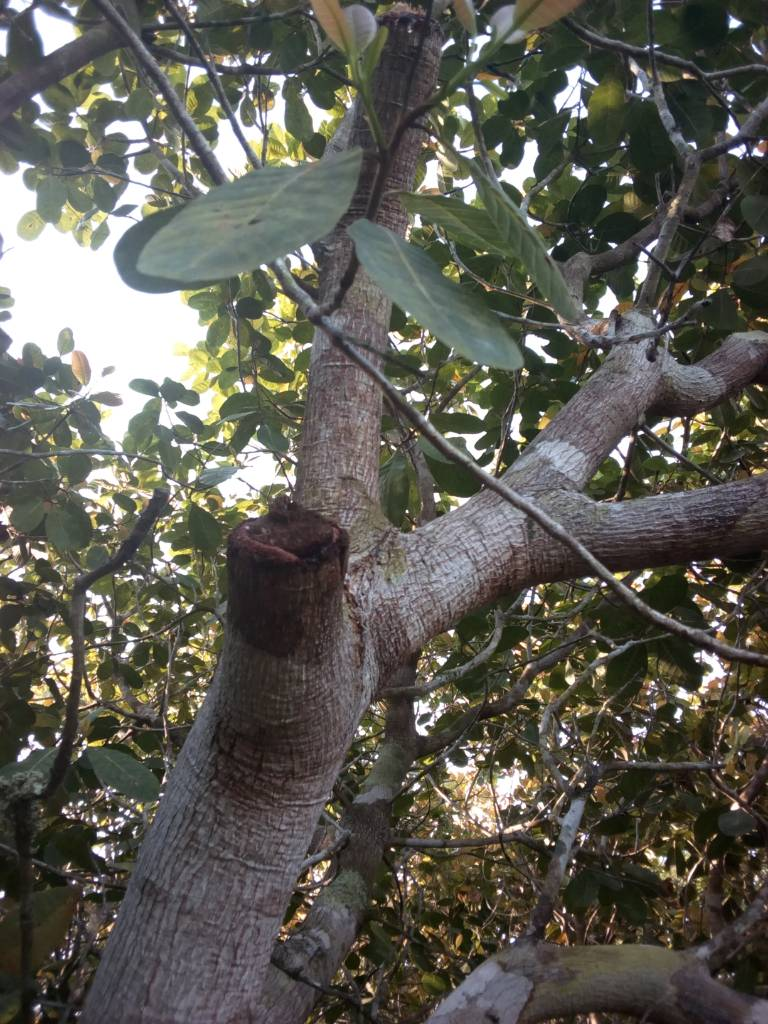Analepse trifasciata: (194, 478, 369, 608)
